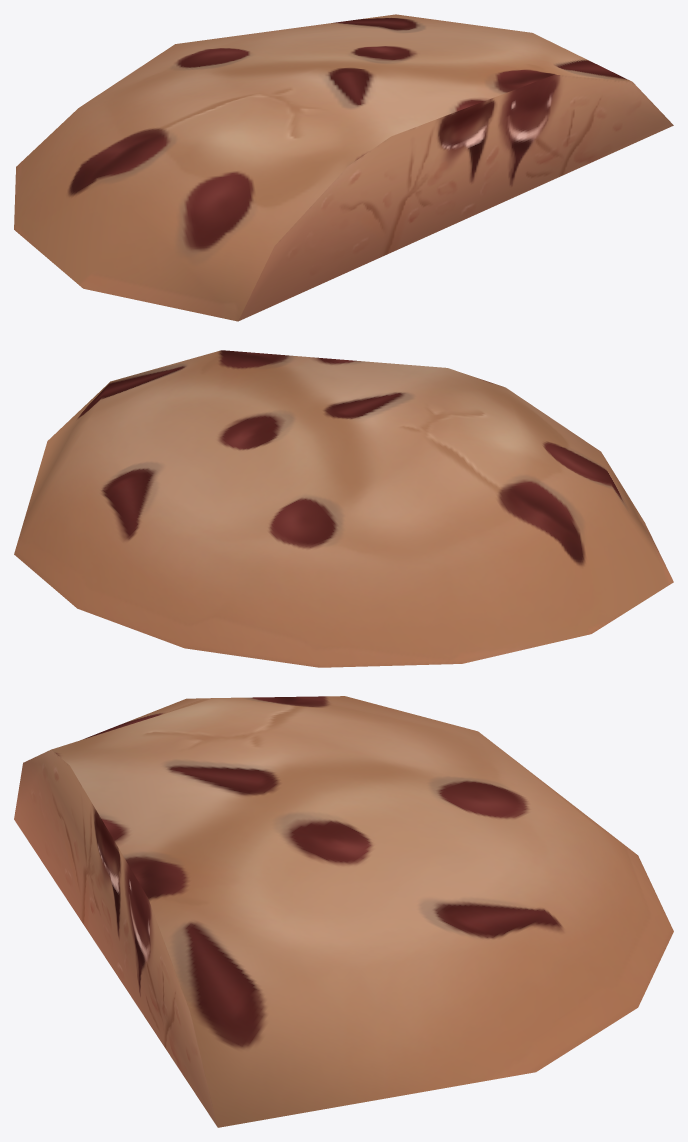
File: CoockieHalf.glb
3 renders of one model, top to bottom at view 1: azimuth 30°, elevation 25°; view 2: azimuth 150°, elevation 25°; view 3: azimuth 270°, elevation 25°, orthographic. The views are drawn at different scales.
Parts seen in each view (by area): view 1: Object_6.004; view 2: Object_6.004; view 3: Object_6.004.
Boxes of the visible parts, bbox=[...] form: Object_6.004: bbox=[14, 14, 673, 321]; Object_6.004: bbox=[14, 350, 673, 667]; Object_6.004: bbox=[14, 696, 673, 1127].
Bounding box in the file's own units: 0.154 × 0.0315 × 0.1121.
Materials: 1 (1 with a texture image).
